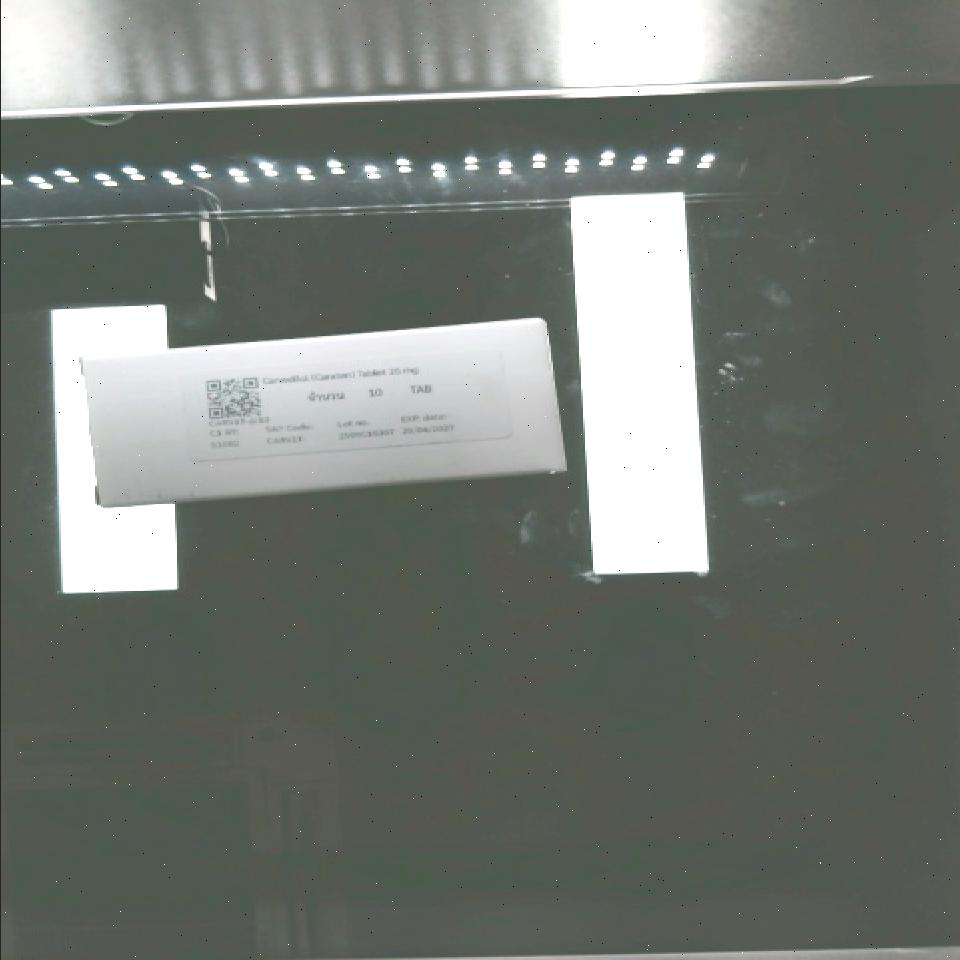medicine_box: (82, 316, 565, 510)
qr_code: (188, 365, 273, 430)
